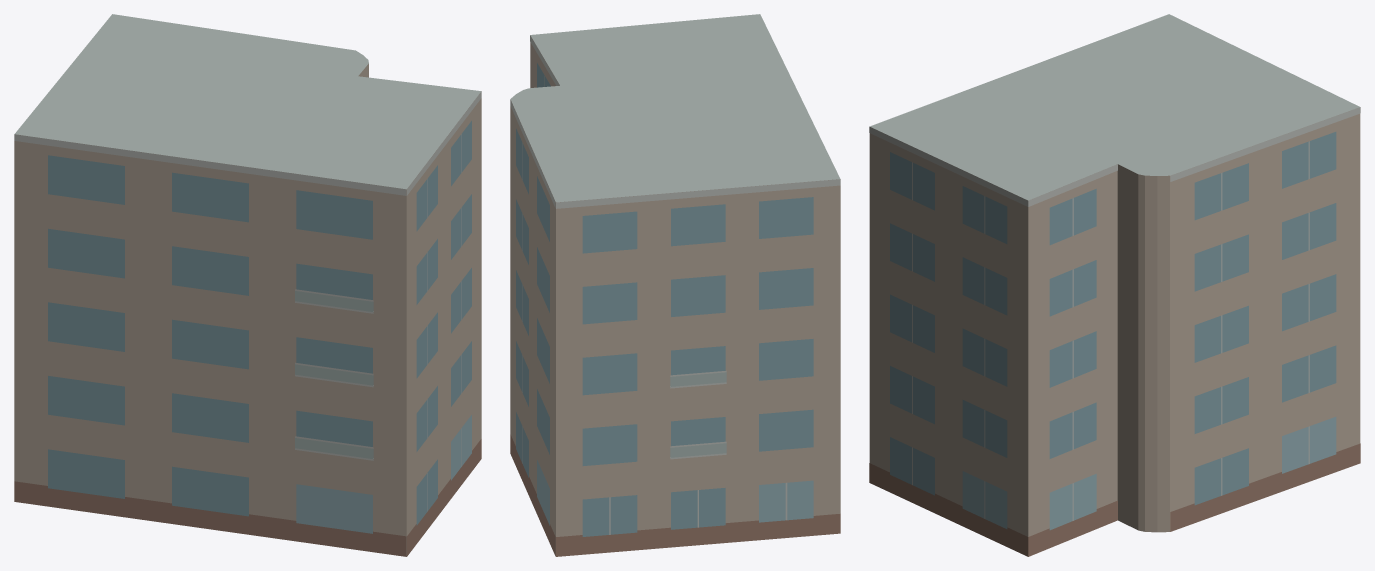
The model's file is survey-upis-32886636.glb.
3 renders of one model, left to right at view 1: azimuth 30°, elevation 25°; view 2: azimuth 150°, elevation 25°; view 3: azimuth 270°, elevation 25°, orthographic. The views are drawn at different scales.
Visible parts, largest first — view 1: survey-upis-32886636.tmp; view 2: survey-upis-32886636.tmp; view 3: survey-upis-32886636.tmp.
Boxes of the visible parts, left/top/right/bottom form: survey-upis-32886636.tmp: left=14, top=14, right=481, bottom=556; survey-upis-32886636.tmp: left=510, top=14, right=840, bottom=556; survey-upis-32886636.tmp: left=869, top=14, right=1360, bottom=556.
Bounding box in the file's own units: 15.06 × 13.4 × 16.74.
